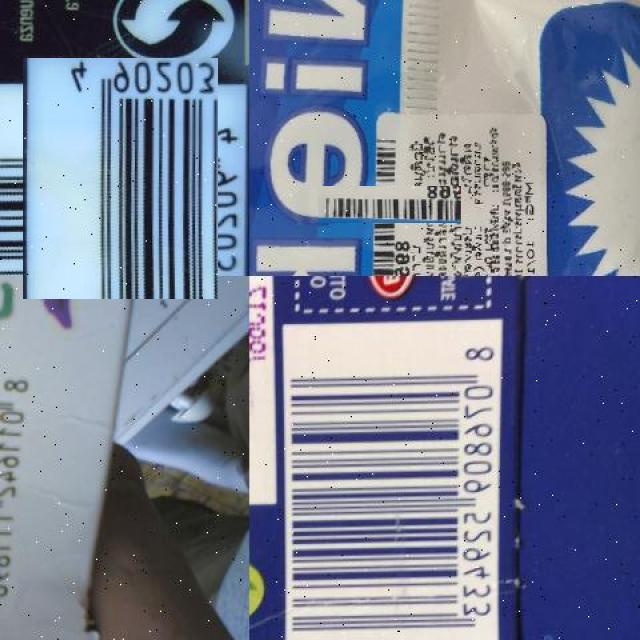Barcode: (281, 323, 498, 640), (11, 69, 230, 287), (0, 361, 47, 639), (344, 159, 435, 249)
